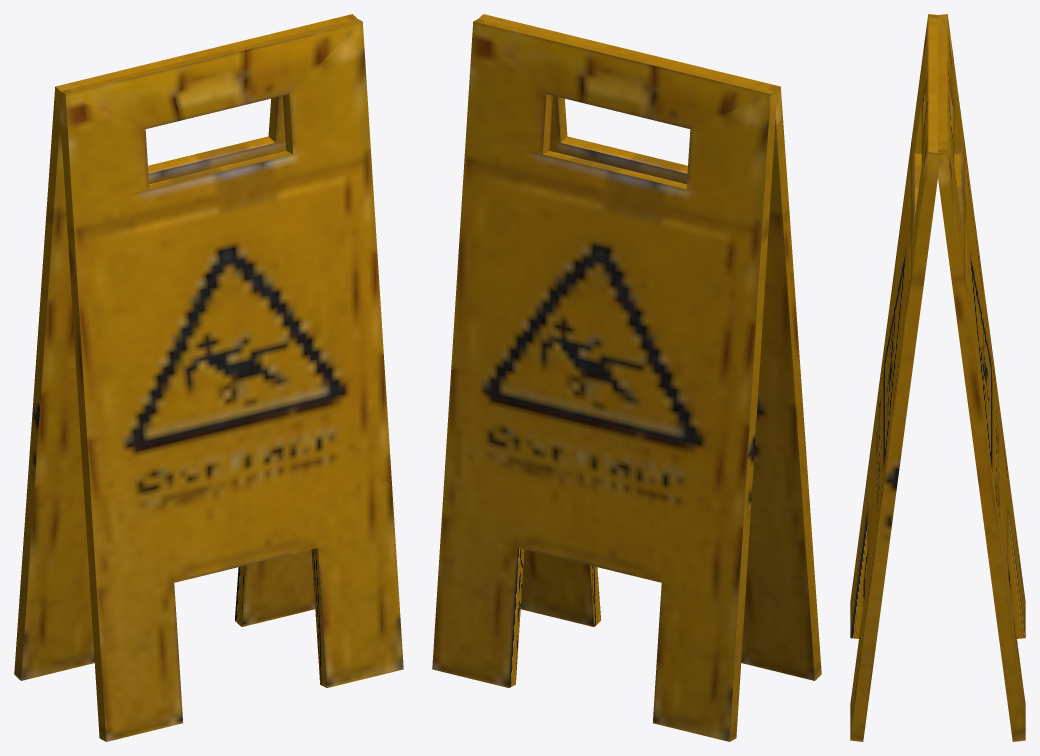
The model's file is SignWetFloor01.obj.
The picture shows the model from 3 angles, left to right: view 1: azimuth 30°, elevation 25°; view 2: azimuth 150°, elevation 25°; view 3: azimuth 270°, elevation 25°; orthographic projection. The views are drawn at different scales.
Visible parts, largest first — view 1: SignWetFloor01; view 2: SignWetFloor01; view 3: SignWetFloor01.
Part boxes in pixels (bbox=[...]): SignWetFloor01: bbox=[14, 14, 403, 741]; SignWetFloor01: bbox=[432, 14, 821, 741]; SignWetFloor01: bbox=[850, 14, 1025, 741].
Bounding box in the file's own units: 0.5 × 0.9952 × 0.2683.
